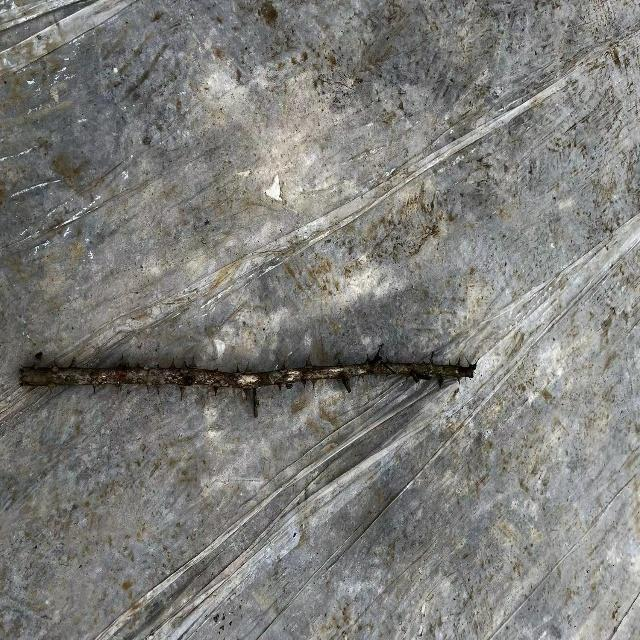branch: (18, 362, 475, 394)
